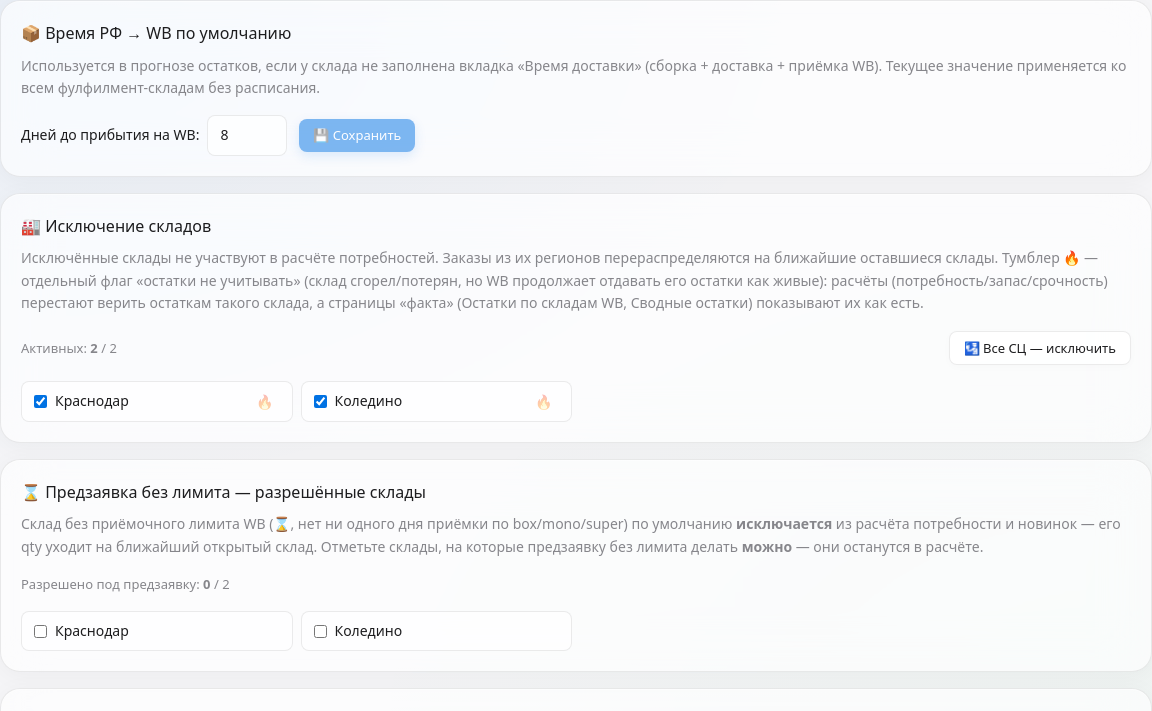
WarehouseExclusionSettings — 🔥 остатки не учитывать › повторный клик по 🔥 снимает игнор
The image size is (1152, 711).
Click the 1st button titled "Остатки не учитывать (сгорел/потерян)".
click(264, 402)  # box left=248, top=392, right=280, bottom=412
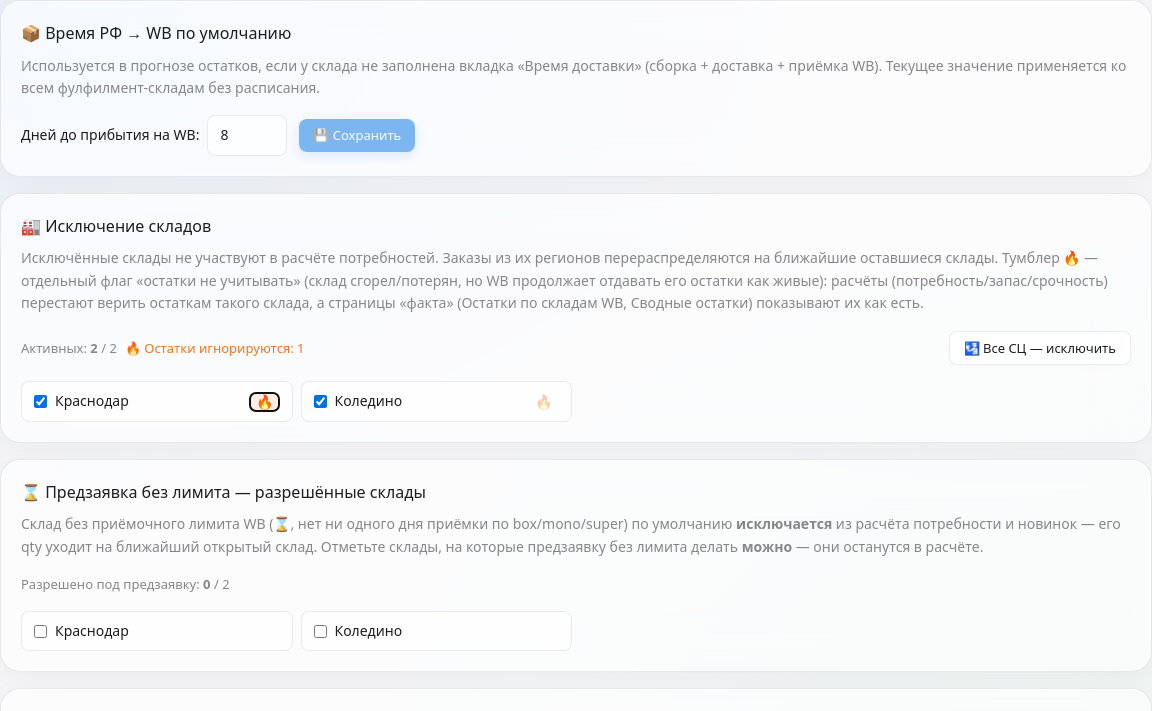
Click the 1st button titled "Остатки не учитывать (сгорел/потерян)".
click(264, 402)  # box left=248, top=392, right=280, bottom=412
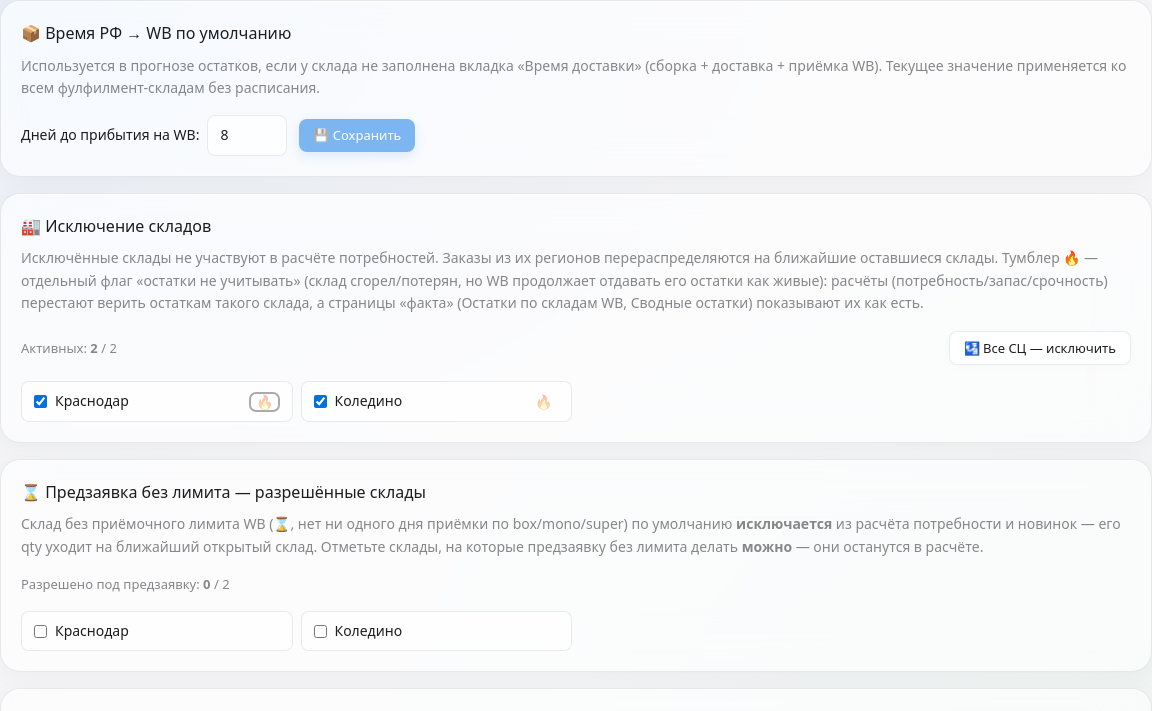
Now the text "🔥 Остатки игнорируются" is gone
